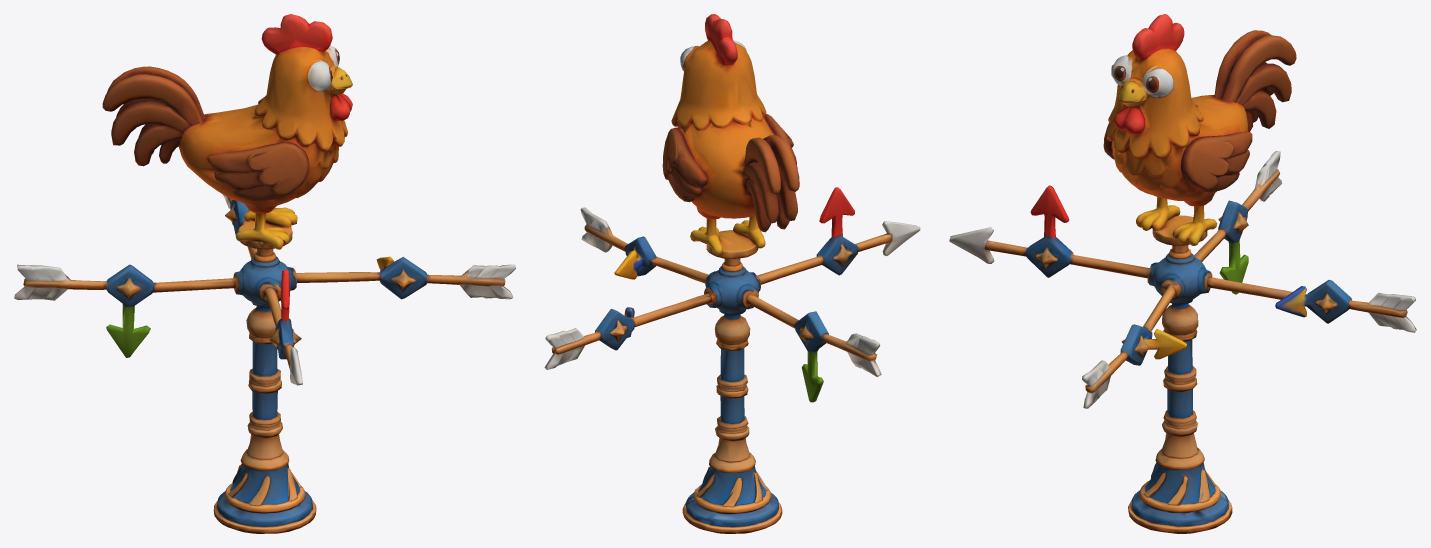
File: weather_vane.glb
3 renders of one model, left to right at view 1: azimuth 30°, elevation 25°; view 2: azimuth 150°, elevation 25°; view 3: azimuth 270°, elevation 25°, orthographic. The views are drawn at different scales.
Parts seen in each view (by area): view 1: tripo_node_46fac262-9e3a-421b-a9b9-41ef4e74ed11; view 2: tripo_node_46fac262-9e3a-421b-a9b9-41ef4e74ed11; view 3: tripo_node_46fac262-9e3a-421b-a9b9-41ef4e74ed11.
Part boxes in pixels (bbox=[...]): tripo_node_46fac262-9e3a-421b-a9b9-41ef4e74ed11: bbox=[14, 14, 515, 533]; tripo_node_46fac262-9e3a-421b-a9b9-41ef4e74ed11: bbox=[544, 14, 920, 533]; tripo_node_46fac262-9e3a-421b-a9b9-41ef4e74ed11: bbox=[949, 14, 1416, 533].
Size of the model in its own units: 0.2547 by 0.3 by 0.2507.
1 material, 1 textured.
